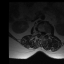CCS_severe_stenosis: (42, 29, 43, 38)
LFS_normal: (46, 30, 48, 37)
LLS_severe_stenosis: (43, 30, 45, 37)
RFS_normal: (38, 29, 40, 36)
RLS_normal: (40, 30, 42, 37)
